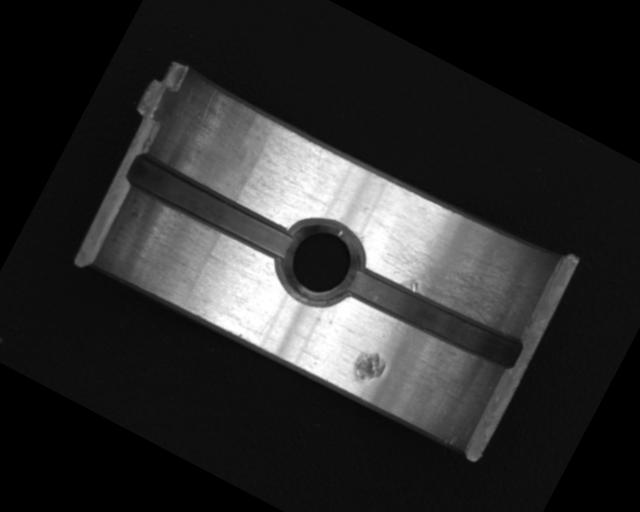bruise: (346, 344, 391, 392)
gap: (340, 253, 527, 380), (121, 149, 298, 265)
hole: (263, 204, 374, 318)
scratch: (359, 188, 542, 340)
